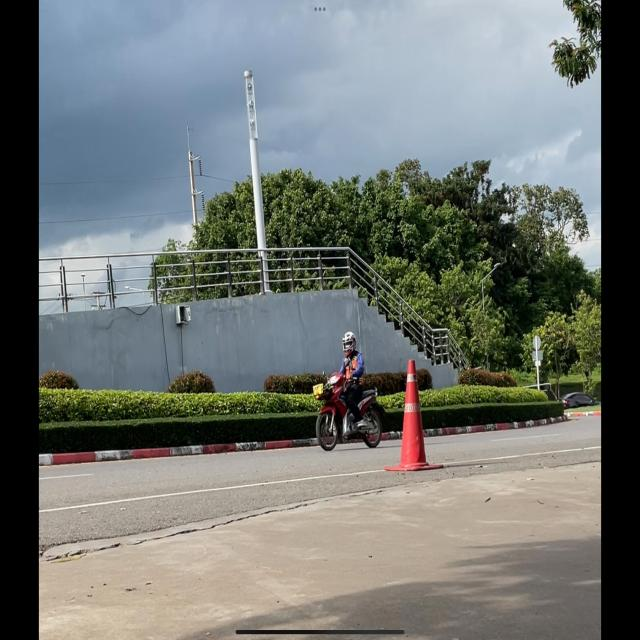no-seatbelt: (342, 330, 357, 357)
